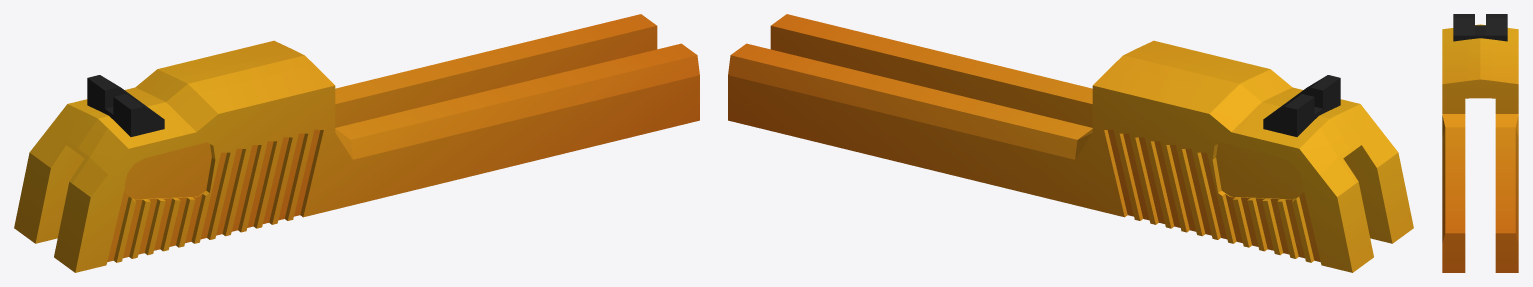
The model's file is Pistol3_05_2.fbx.
The picture shows the model from 3 angles, left to right: view 1: azimuth 30°, elevation 25°; view 2: azimuth 150°, elevation 25°; view 3: azimuth 270°, elevation 25°; orthographic projection. The views are drawn at different scales.
Visible parts, largest first — view 1: Pistol3_05_2; view 2: Pistol3_05_2; view 3: Pistol3_05_2.
Part boxes in pixels (x1=…): Pistol3_05_2: x1=14, y1=14, x2=699, y2=272; Pistol3_05_2: x1=728, y1=14, x2=1413, y2=272; Pistol3_05_2: x1=1442, y1=14, x2=1518, y2=272.
Size of the model in its own units: 0.2764 by 0.0596 by 0.0469.
